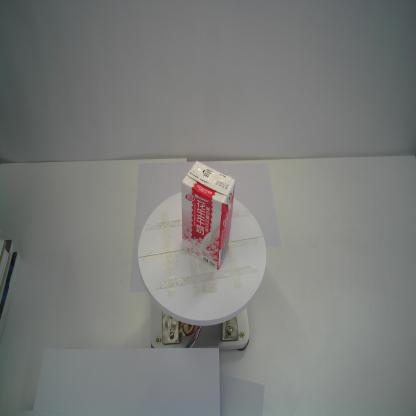Milk: (181, 159, 236, 272)
